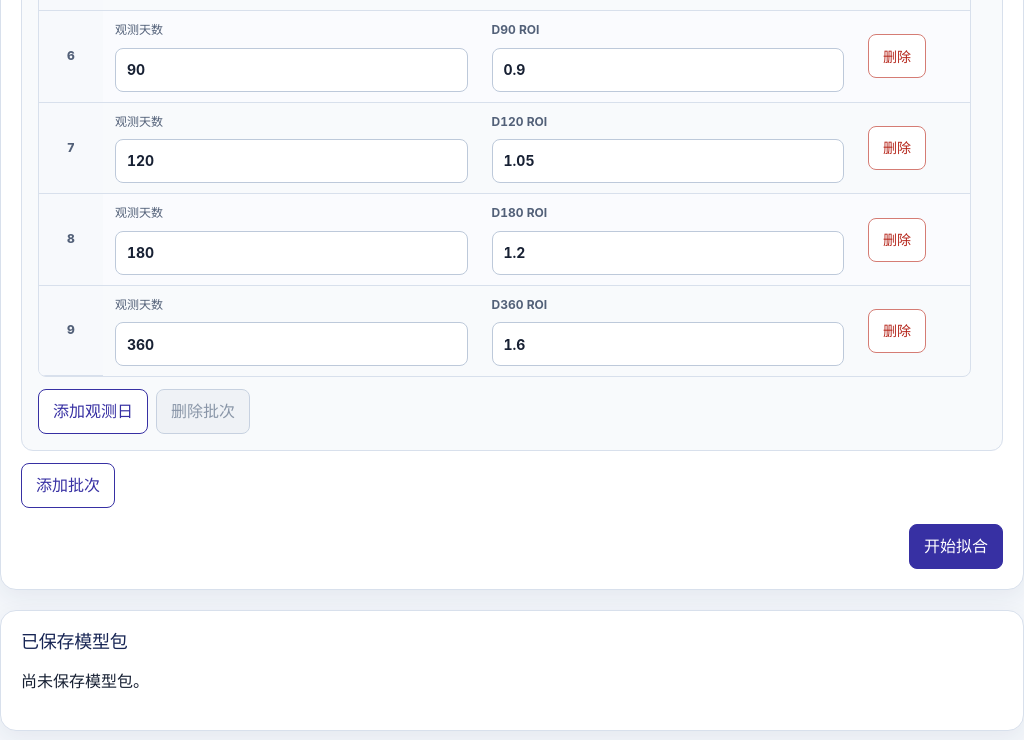
Test: fit workspace › does not fit until the user explicitly starts fitting
(page scrolled)
Expected: the heading "拟合结果" is not shown
Click the button "开始拟合". click: (956,546)
box: [909, 524, 1003, 569]
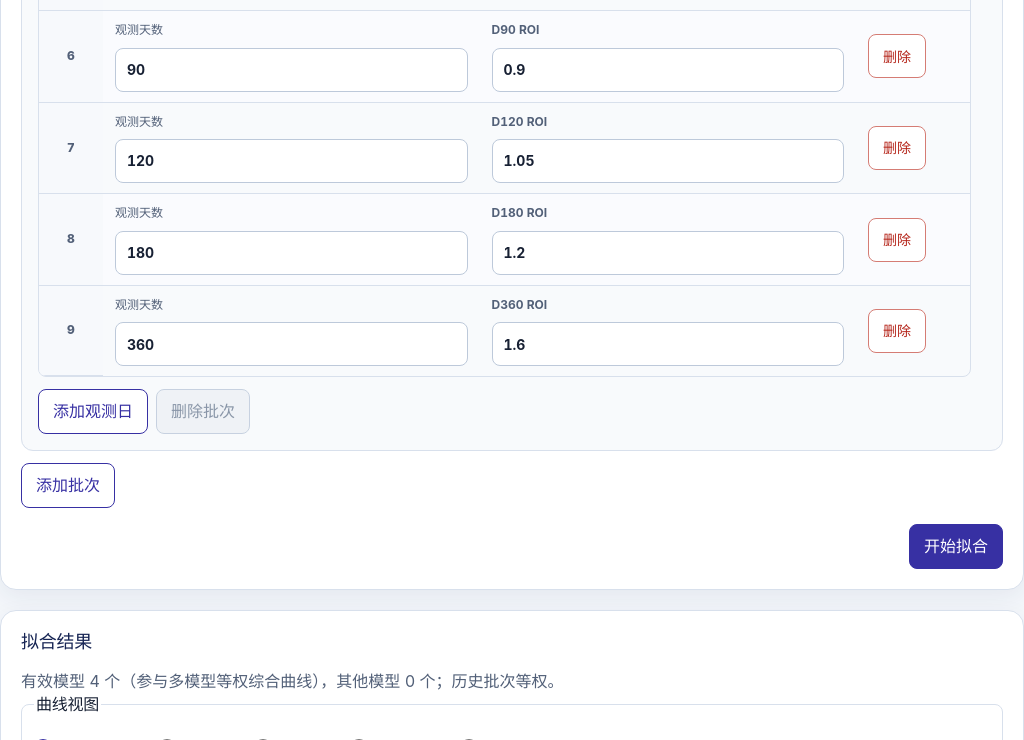
Now the heading "拟合结果" is shown, box [21, 631, 92, 652]
Now the text "有效模型 4 个（参与多模型等权综合曲线），其他模型 0 个；历史批次等权。" is shown, box [21, 669, 564, 694]
